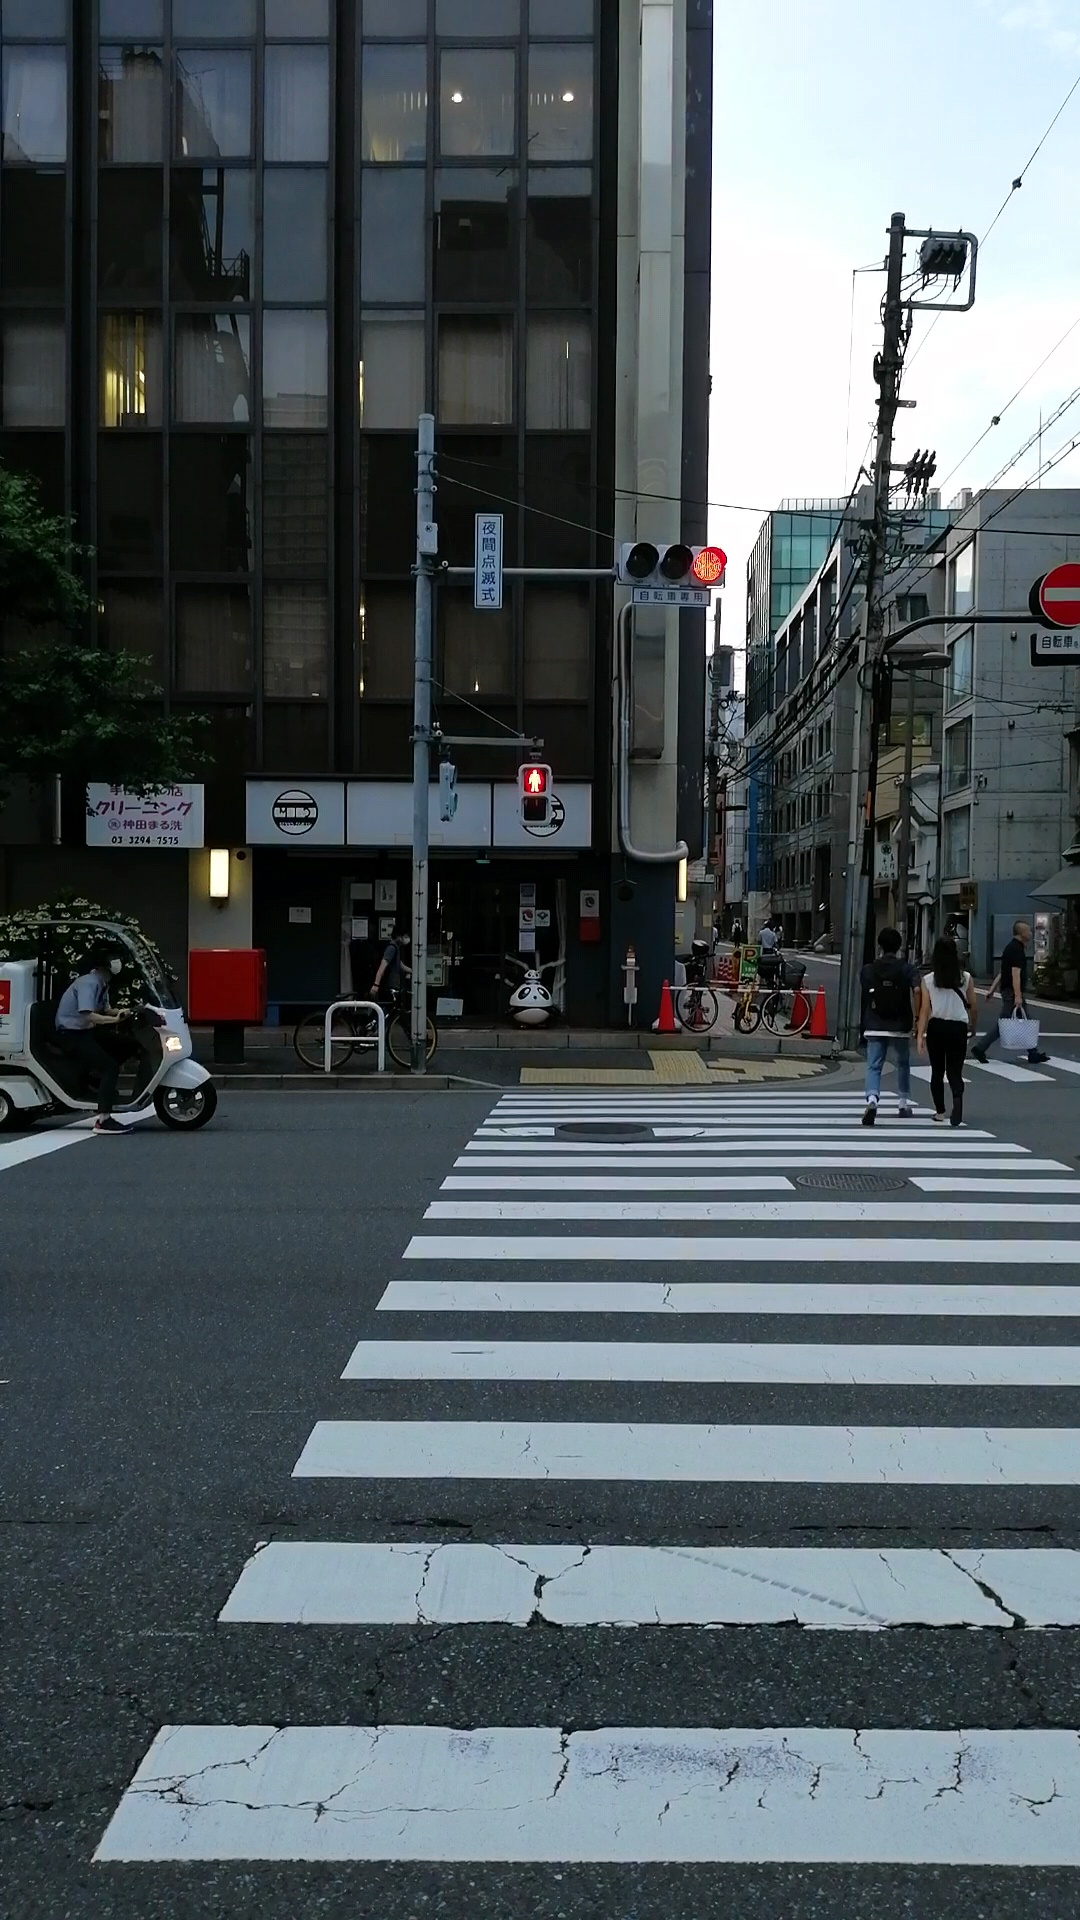red: (516, 762, 551, 825)
